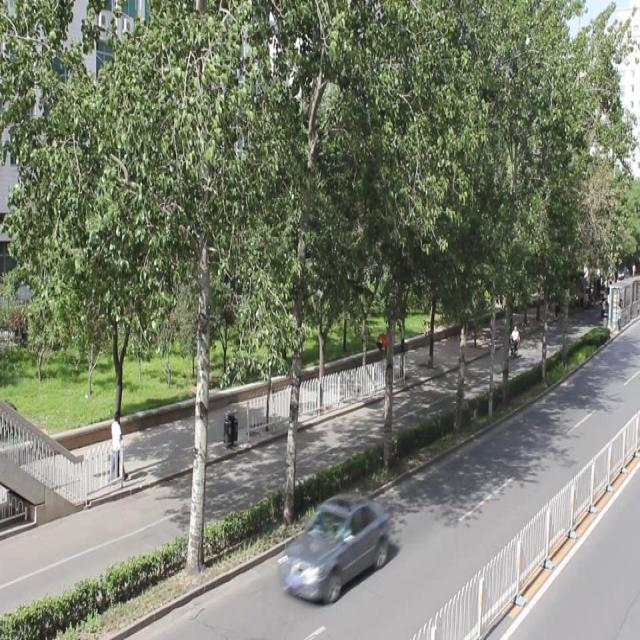car: (280, 490, 389, 600)
